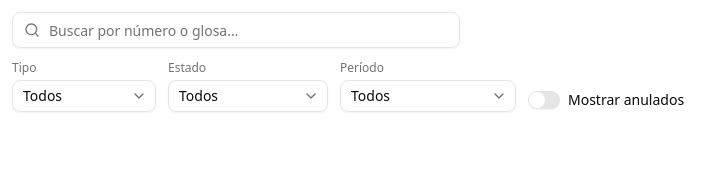
Test: ComprobantesFilters › escribir en la búsqueda actualiza el query param q (debounced)
In the field named "Buscar comprobante": coordinates (236, 30) [12, 12, 460, 48], type "compra"
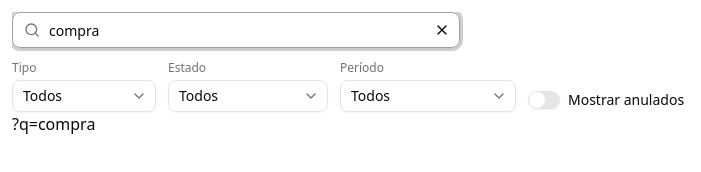
expect the text with test id "search" shows "q=compra": met, box [12, 113, 95, 135]
